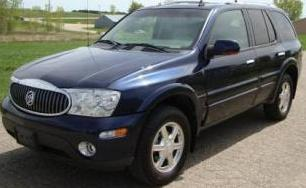front_view: (0, 69, 135, 169)
headlight: (56, 85, 125, 121)
side_glass: (205, 9, 298, 60)
